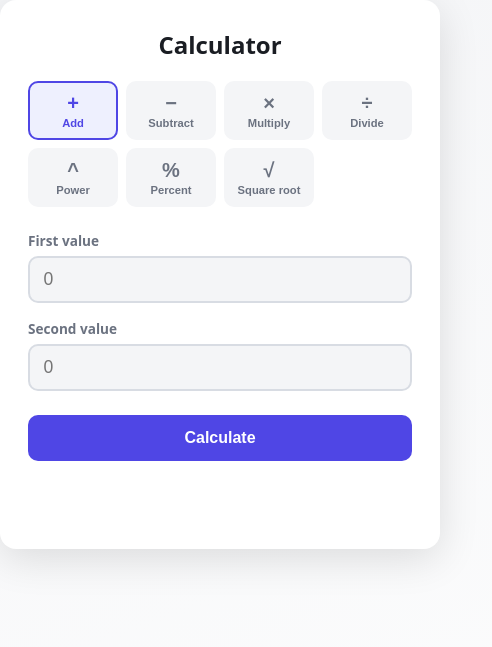
Test case: Calculator › performs a calculation and shows the result
The width and height of the screenshot is (492, 647).
In the number field labelled "First value": (220, 280) x1=28 y1=256 x2=412 y2=303, type "2"
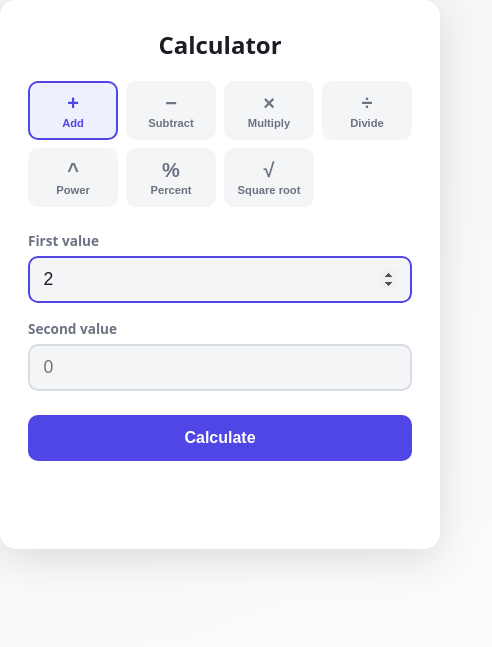
In the number field labelled "Second value": (220, 368) x1=28 y1=344 x2=412 y2=391, type "3"
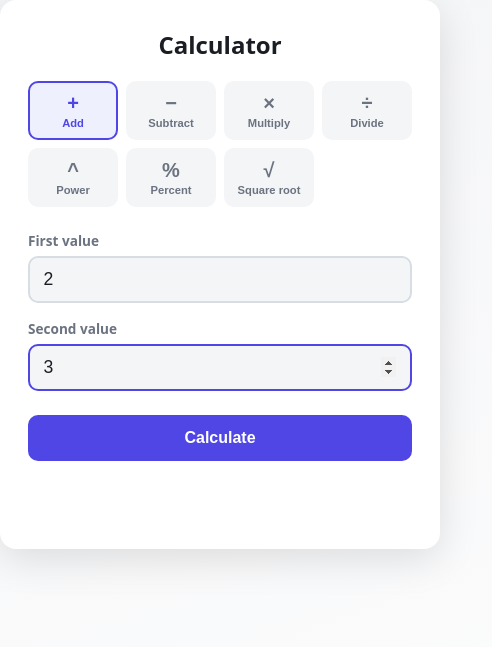
Click the button "Calculate": (220, 438) x1=28 y1=415 x2=412 y2=460
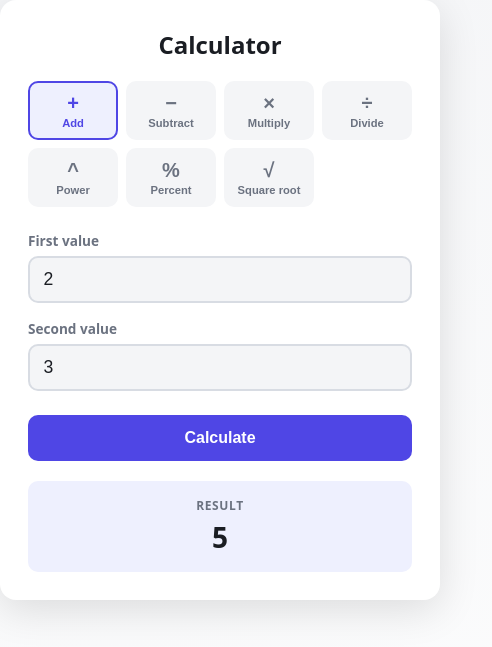
Check: the text "5" is shown, box x1=212 y1=518 x2=228 y2=556
